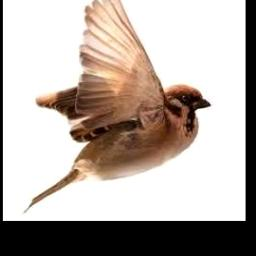Sparrow: (22, 0, 210, 213)
